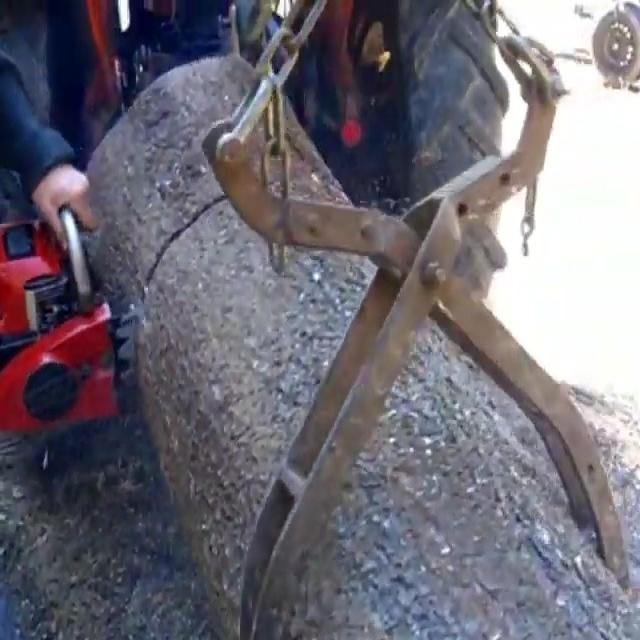Chainsaw: (0, 186, 154, 454)
